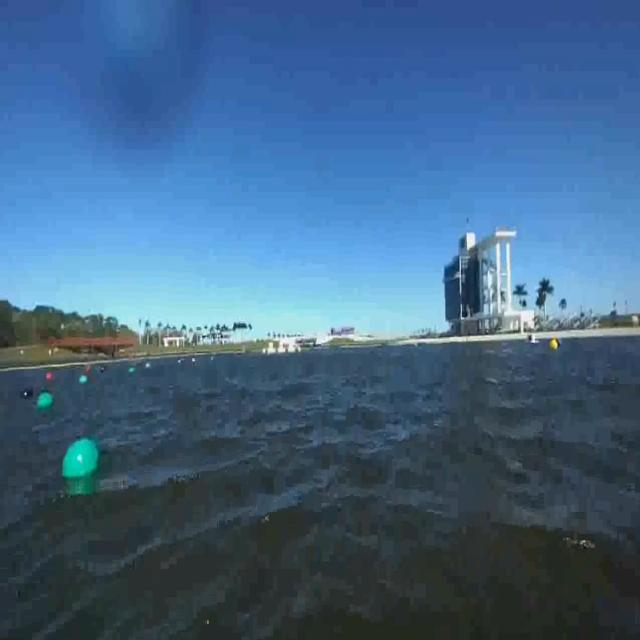black-buoy: (21, 388, 34, 399)
green-buoy: (63, 438, 101, 481), (38, 392, 54, 411), (79, 376, 88, 386)
yellow-buoy: (551, 337, 560, 353)
